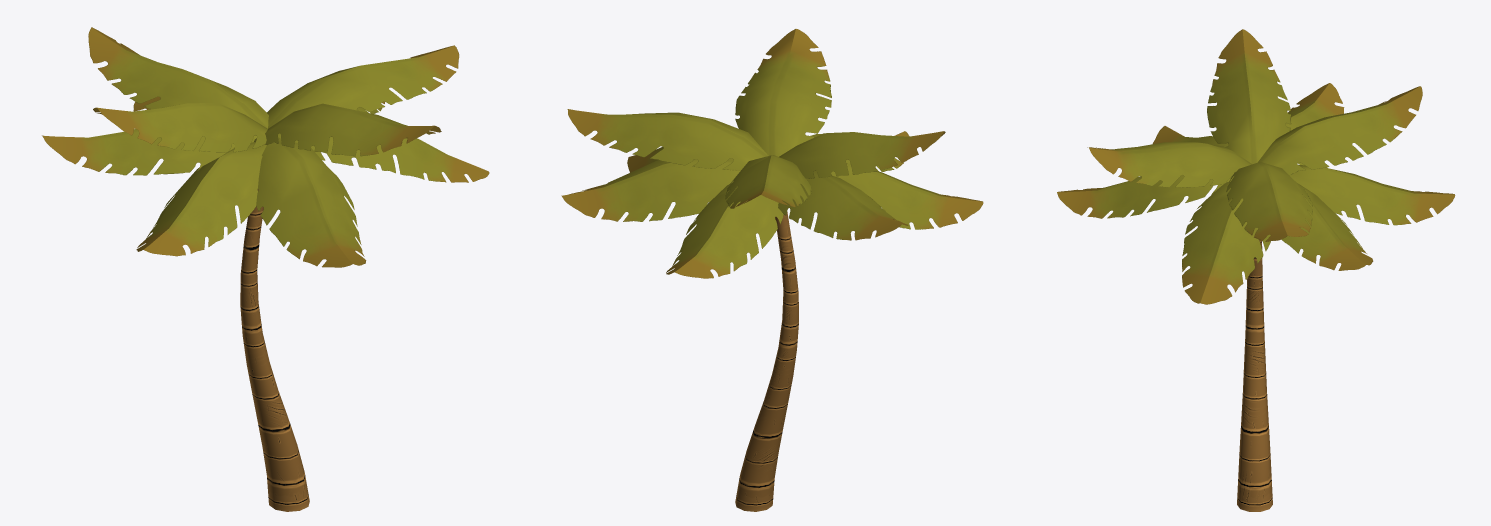
File: PalmTree00.fbx
3 views of the same model, side by side, from view 1: azimuth 30°, elevation 25°; view 2: azimuth 150°, elevation 25°; view 3: azimuth 270°, elevation 25° (orthographic). The views are drawn at different scales.
Parts seen in each view (by area): view 1: PalmTree00_LOD0; view 2: PalmTree00_LOD0; view 3: PalmTree00_LOD0.
Part boxes in pixels (x1,y1,x2,y2): PalmTree00_LOD0: (42, 27, 489, 511); PalmTree00_LOD0: (561, 29, 983, 511); PalmTree00_LOD0: (1057, 29, 1455, 511).
Size of what is drawn, in the model's own units: 511 by 505 by 508.
1 material, 1 textured.
